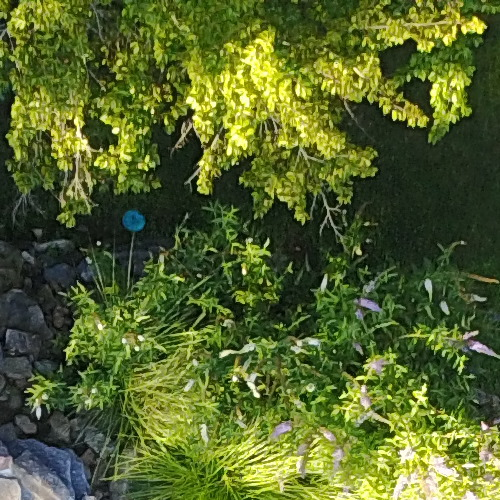no larvae: (110, 200, 150, 237)
toy: (112, 202, 152, 239)
